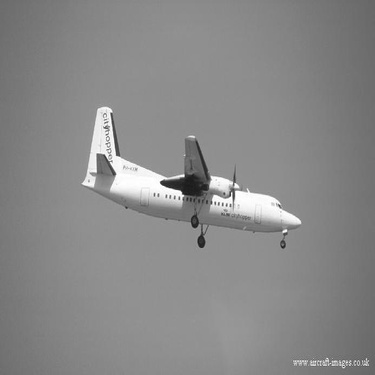airplane: (68, 83, 311, 256)
